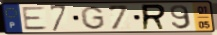7: (108, 4, 130, 31), (49, 4, 69, 32)
9: (169, 4, 193, 30)
E: (21, 6, 50, 32)
G: (79, 5, 106, 31)
R: (141, 3, 167, 32)
